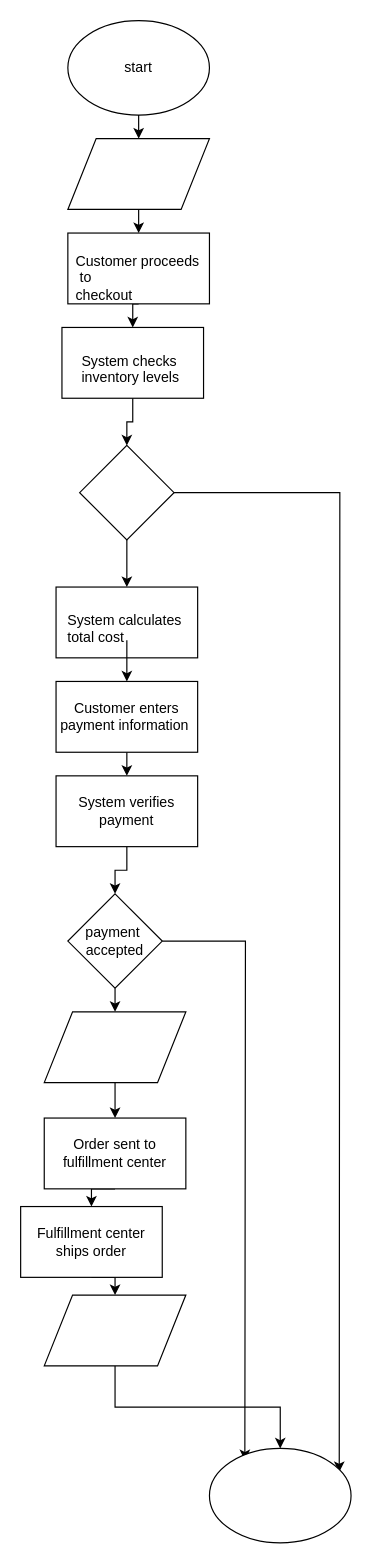
Image size: 372x1563. Some labels were removed from this diagram. The shapes that lost their labels are listed below. From the top down, each one's box as (x1, y1, x2, y2) in pixels, then its label:
(67, 137, 209, 209): Customer selects items to purchase
(78, 444, 174, 540): Inventory sufficient?
(43, 1011, 186, 1083): System generates order confirmation
(43, 1294, 186, 1366): Order delivered to customer
(208, 1447, 351, 1543): stop
